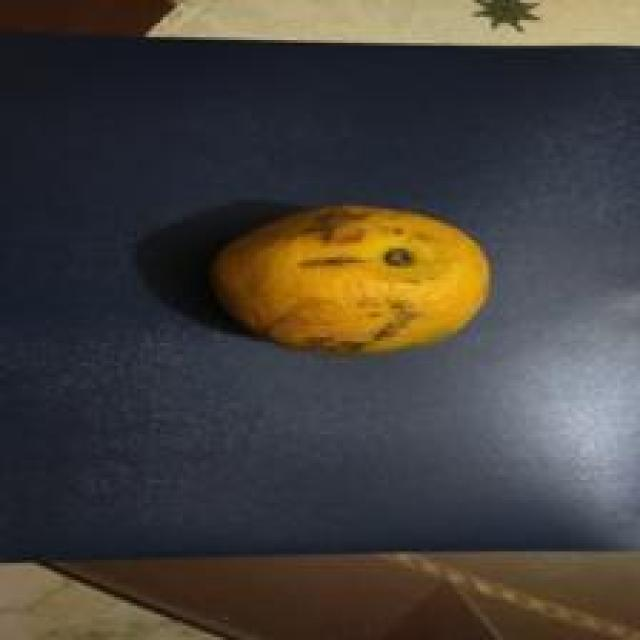overripe: (211, 198, 498, 359)
